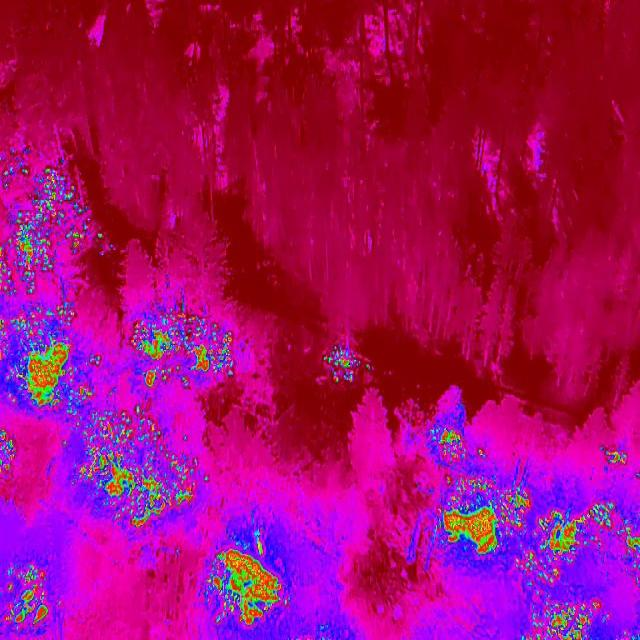fire: (0, 146, 84, 414), (64, 397, 212, 529), (516, 505, 640, 640), (418, 422, 536, 560), (133, 302, 237, 398), (204, 537, 290, 628), (0, 552, 54, 640), (320, 344, 374, 386), (0, 426, 18, 478), (599, 446, 632, 474)
